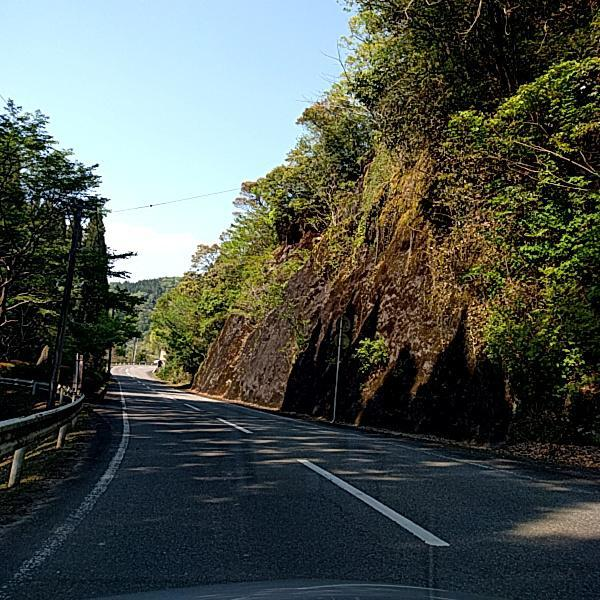D00: (305, 488, 362, 525)
